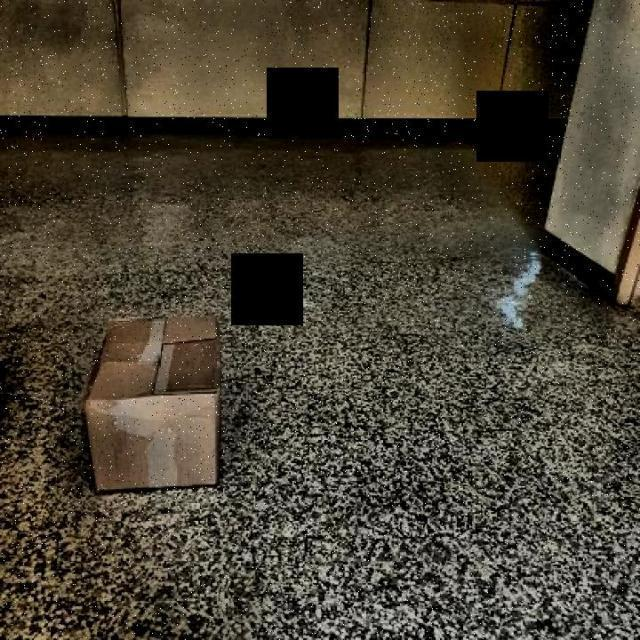box: (75, 308, 232, 508)
